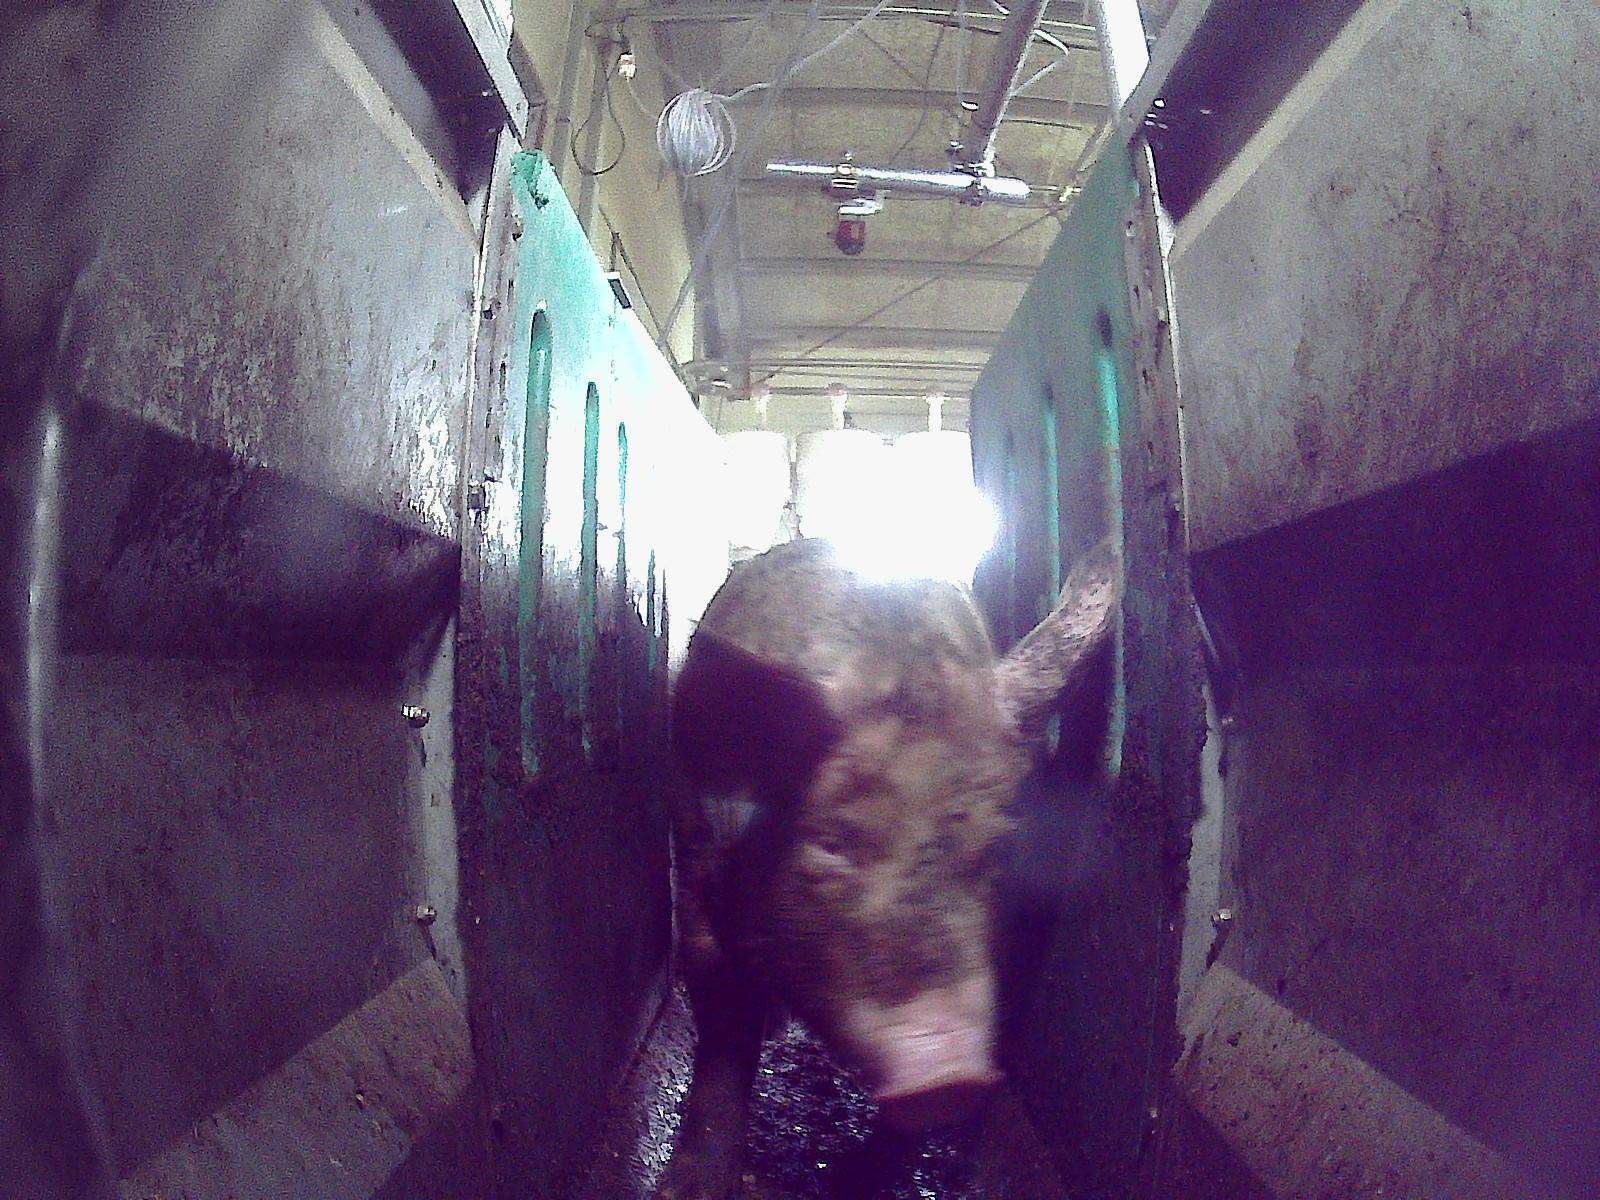Face: (741, 706, 1005, 1128)
